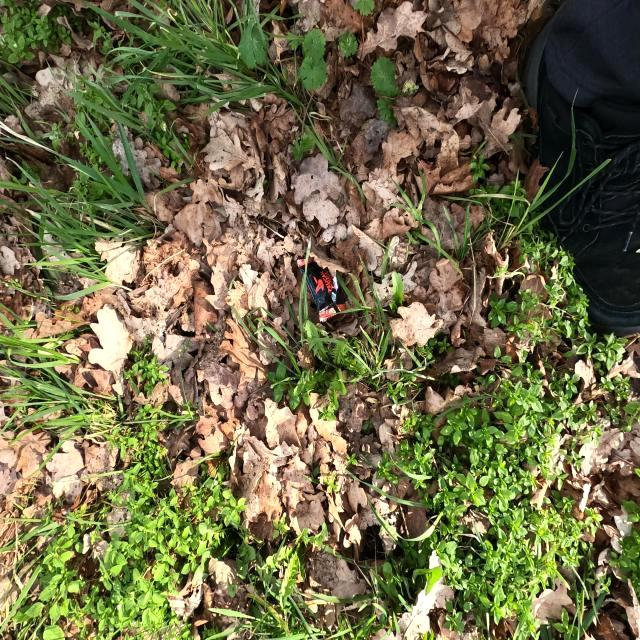Plastic: (296, 257, 346, 323)
